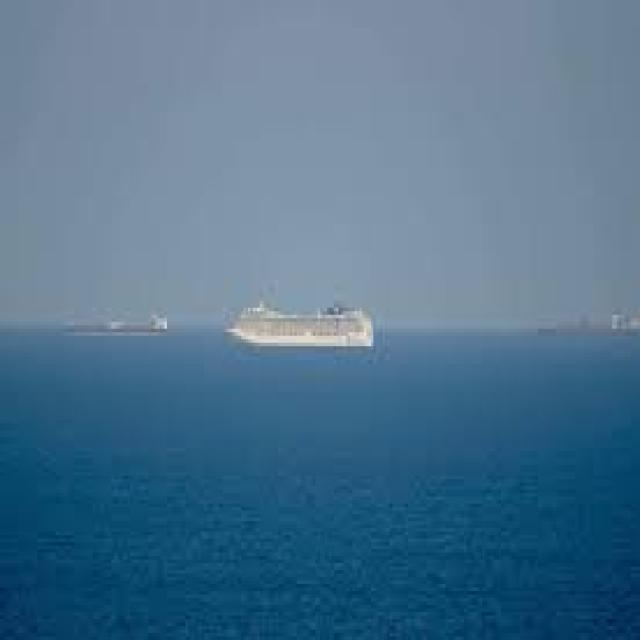passenger ship: (236, 276, 388, 375)
